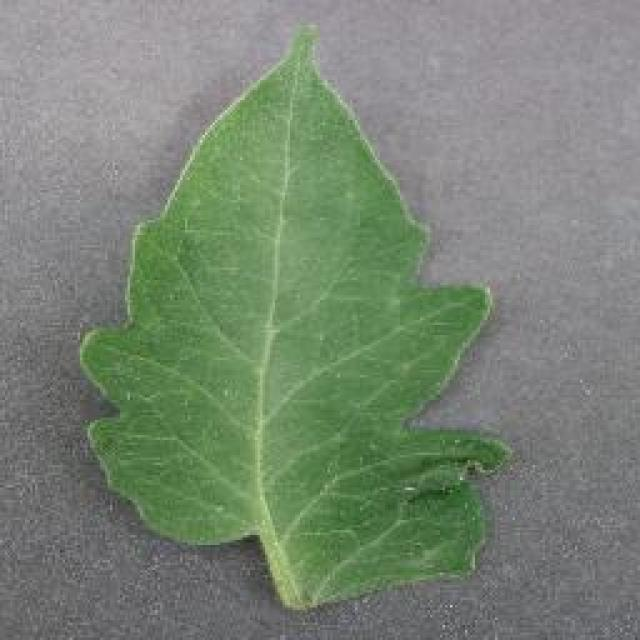Tomato_Healthy: (63, 26, 533, 608)
